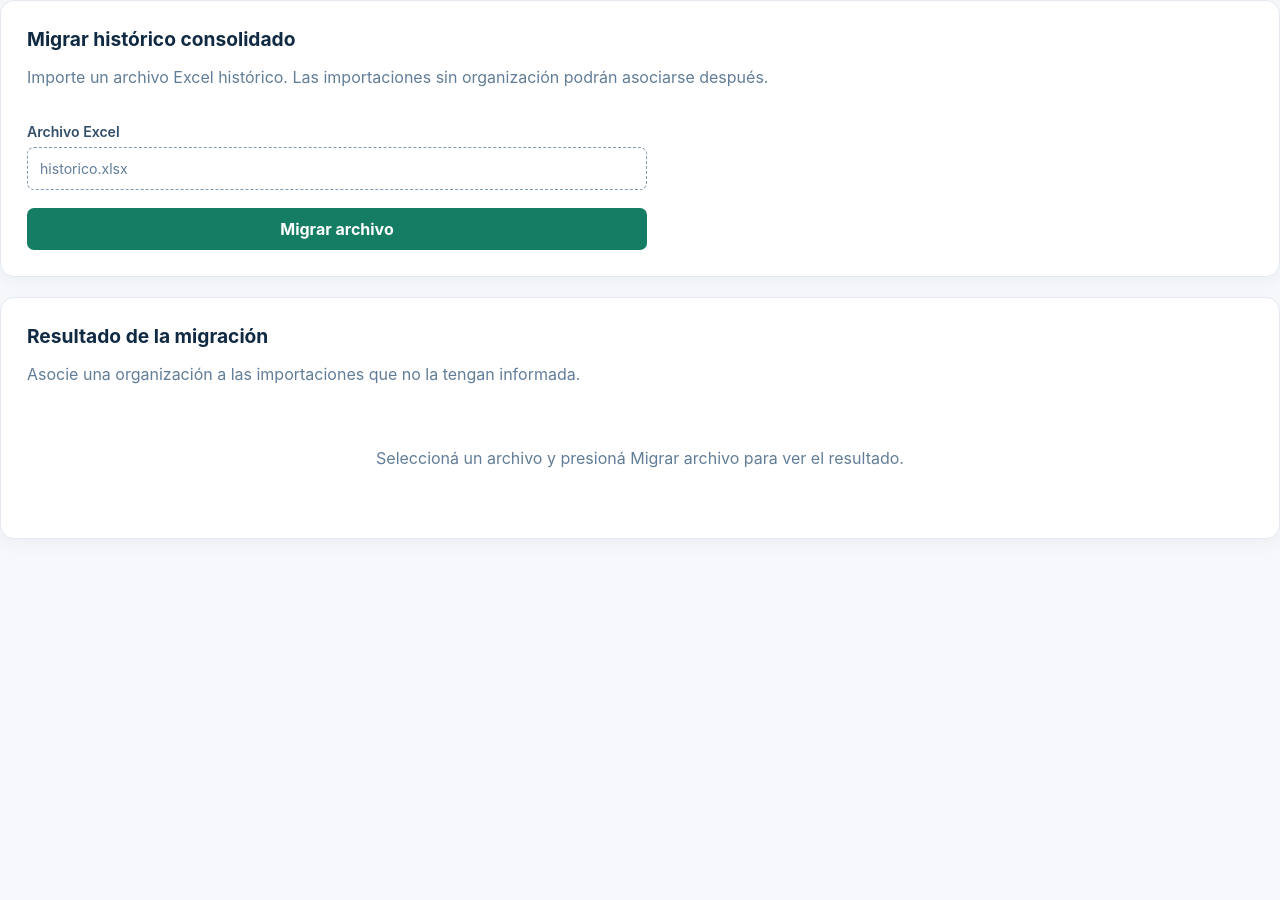
Test: Migration › asocia una organización y refresca la fila manteniendo los datos originales
Earlier steps of the test are not shown.
Click the button "Migrar archivo". click: (337, 229)
box: [27,208,647,250]
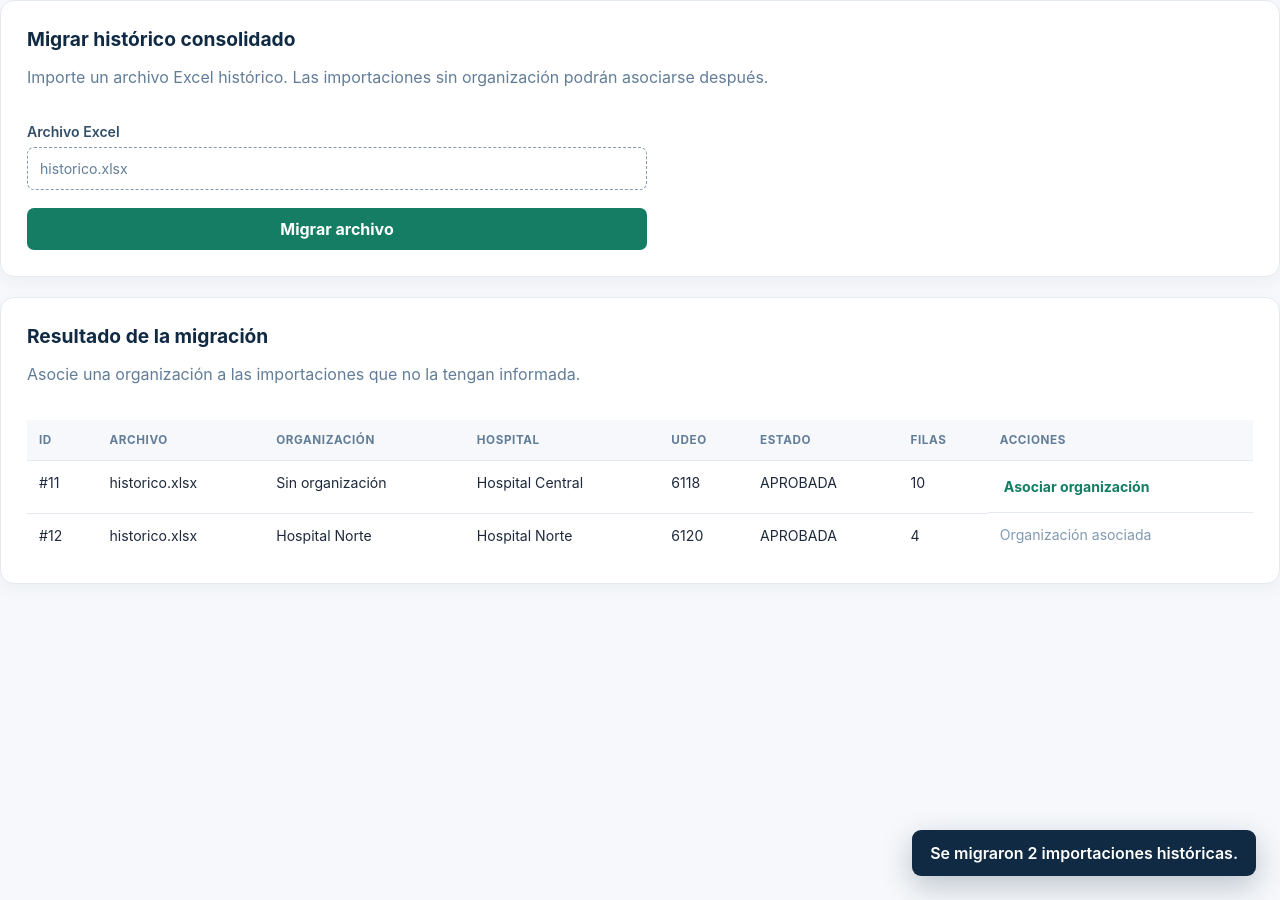
Click the button "Asociar organización". click: (1077, 486)
box: [1000,474,1153,499]
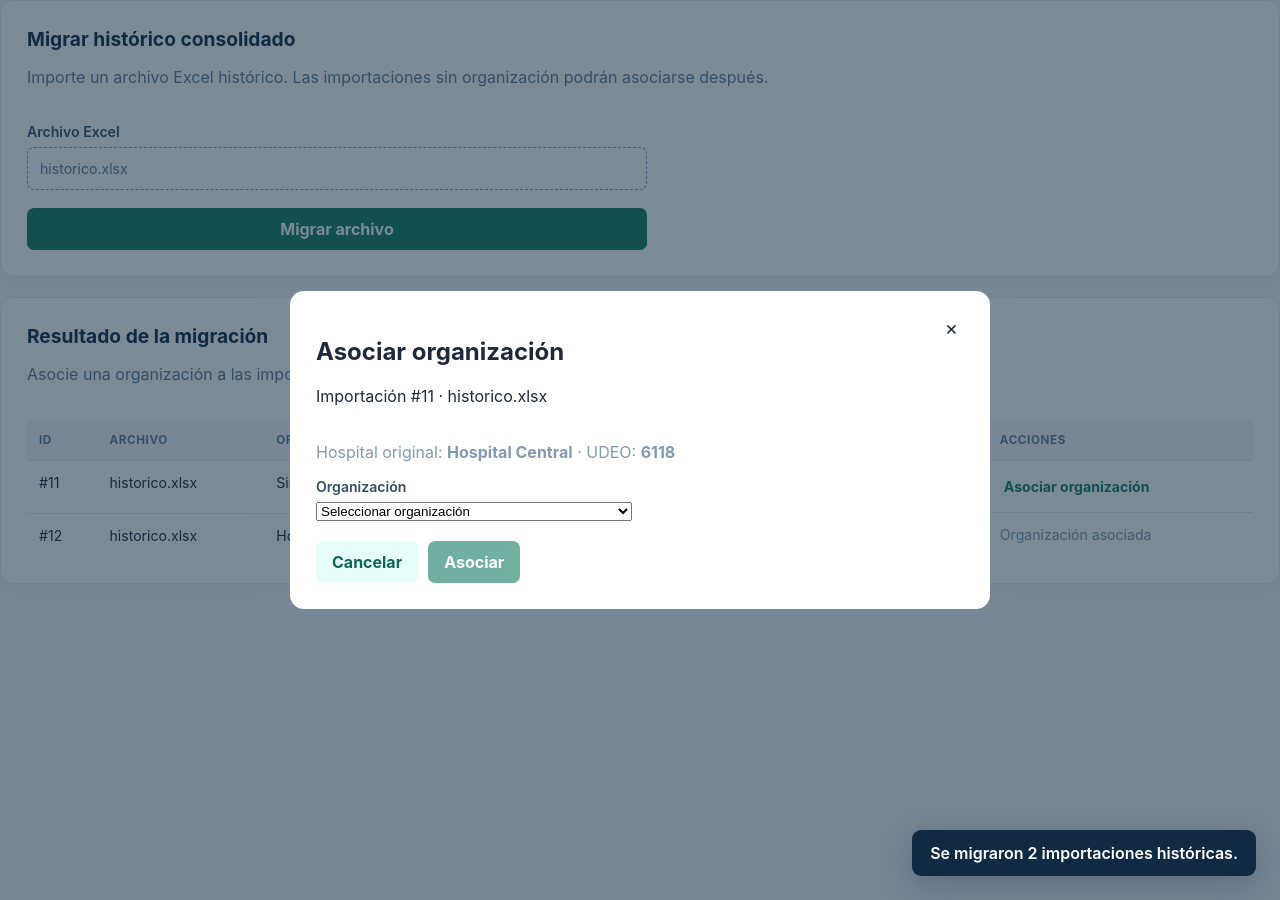
Select "Hospital Sur · 6130" in the dropdown labelled "Organización". click: (474, 511)
box: [316,502,632,521]
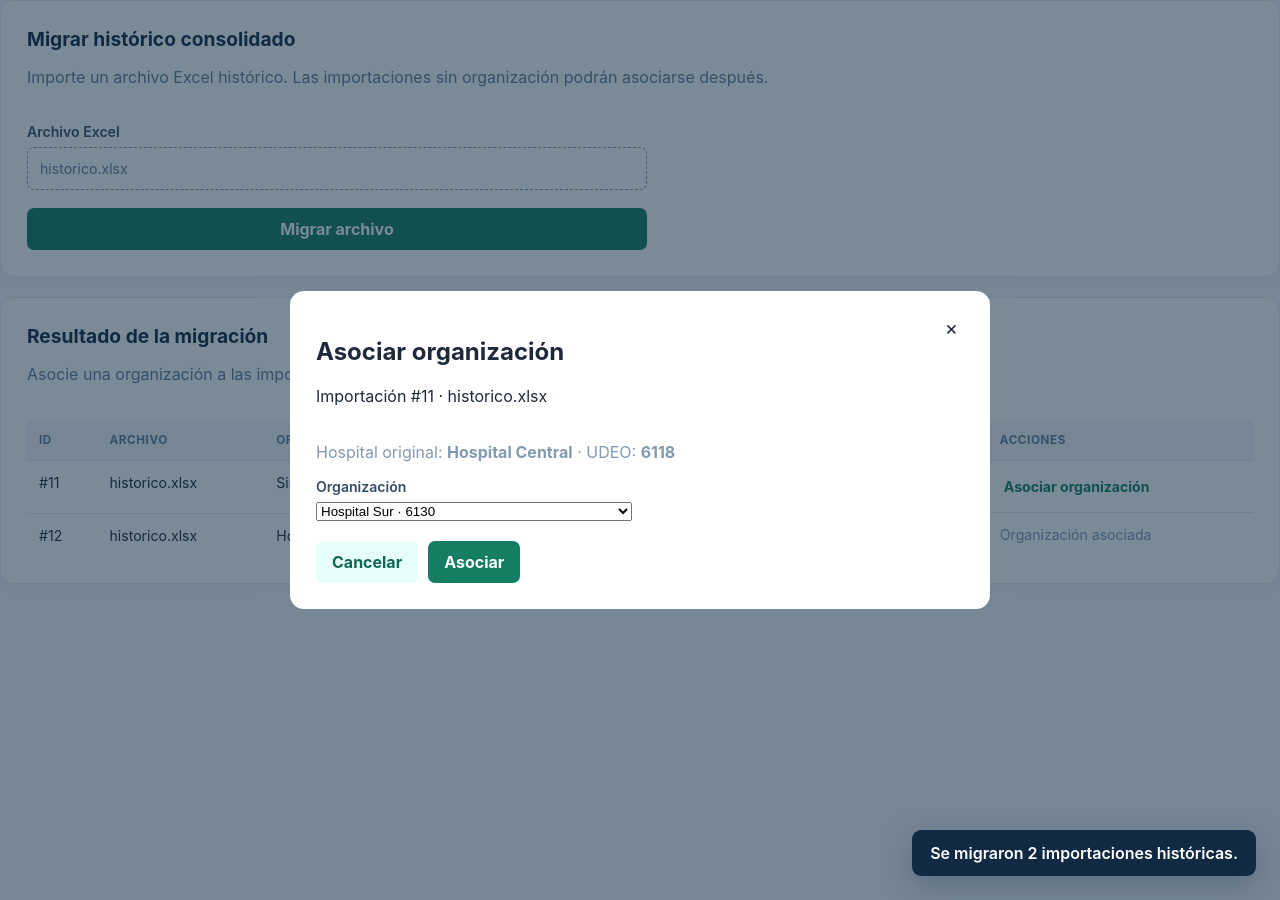
Click the button "Asociar". click: (474, 562)
box: [428,541,520,583]
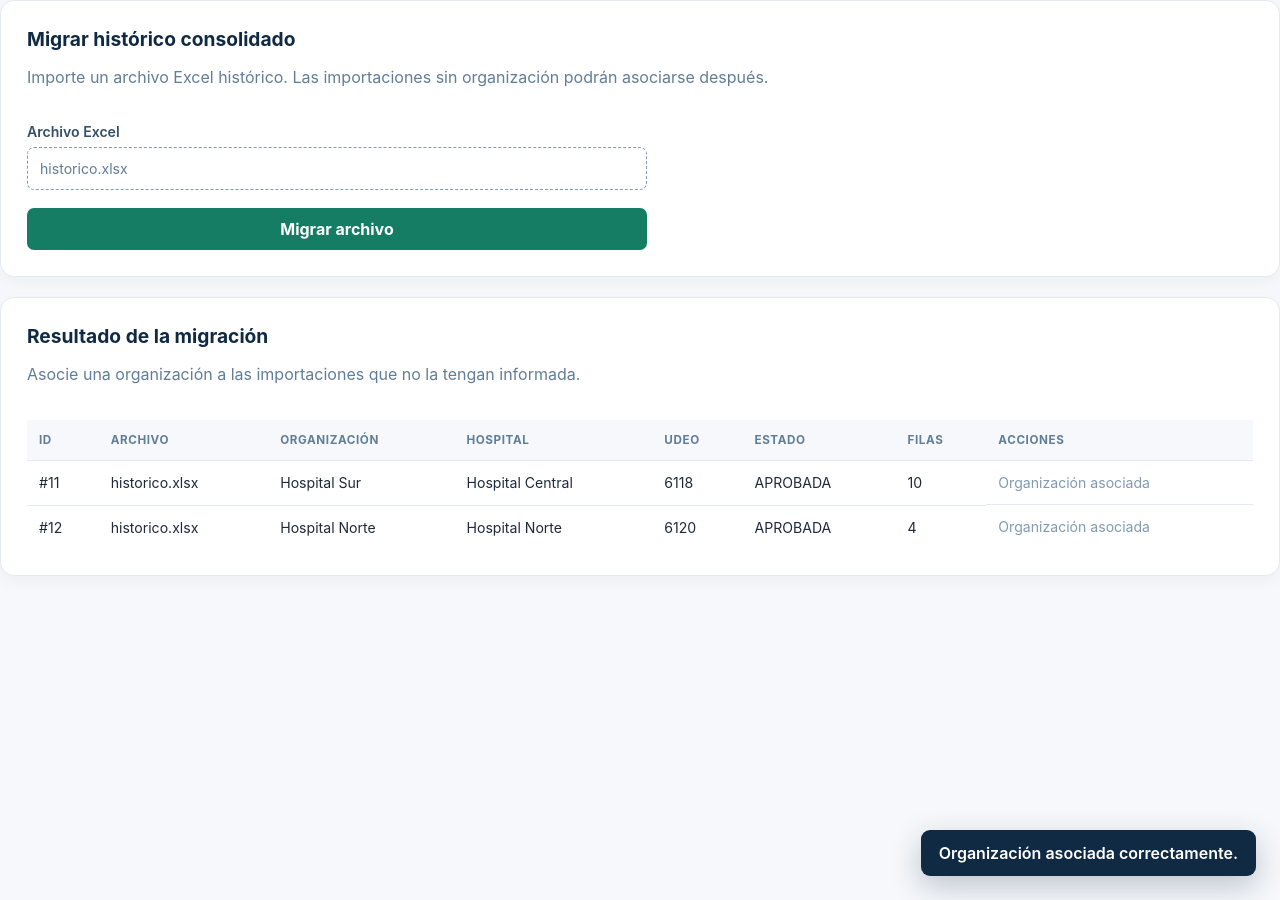
expect the text "Organización asociada correctamente." is shown: met, box [921,830,1256,876]
expect the button "Asociar organización" is gone: met
expect the text "Hospital Sur" is shown: met, box [268,460,454,505]
